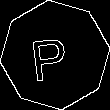P_N: (34, 28, 76, 82)
